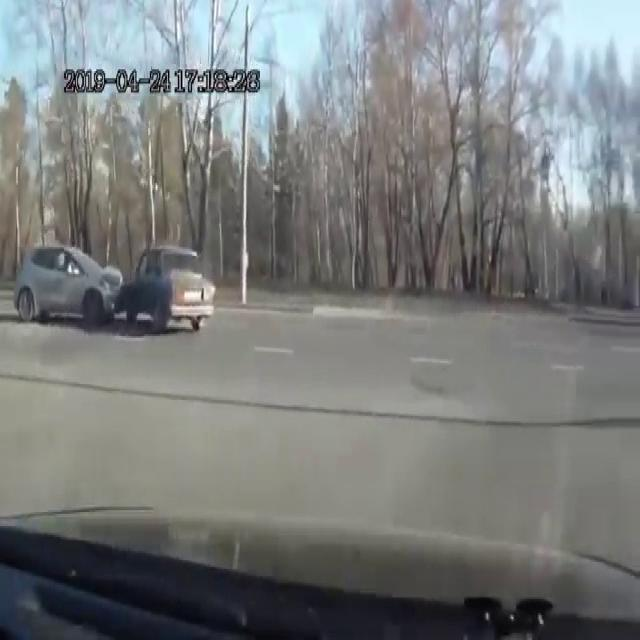moderate: (12, 229, 216, 345)
